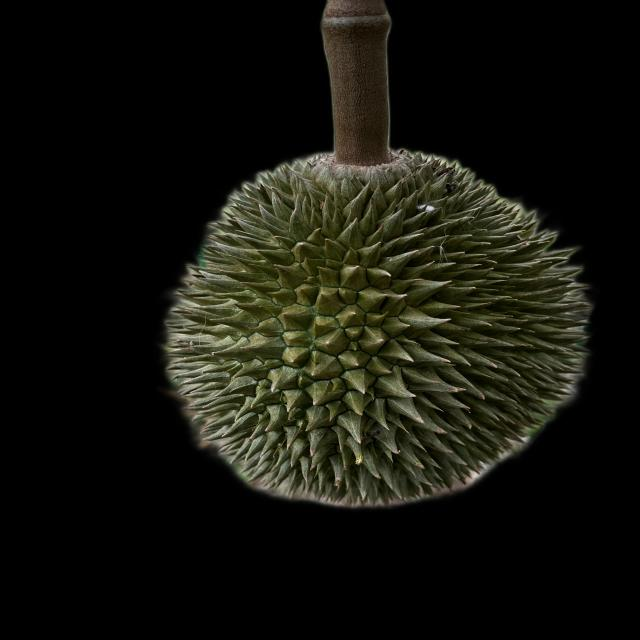immature: (168, 153, 590, 507)
